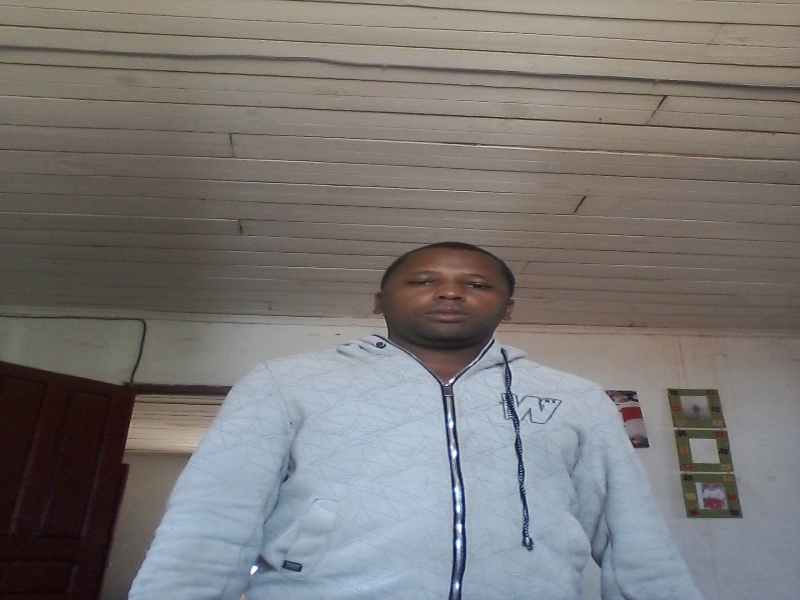TsisyArotava: (368, 234, 528, 370)
